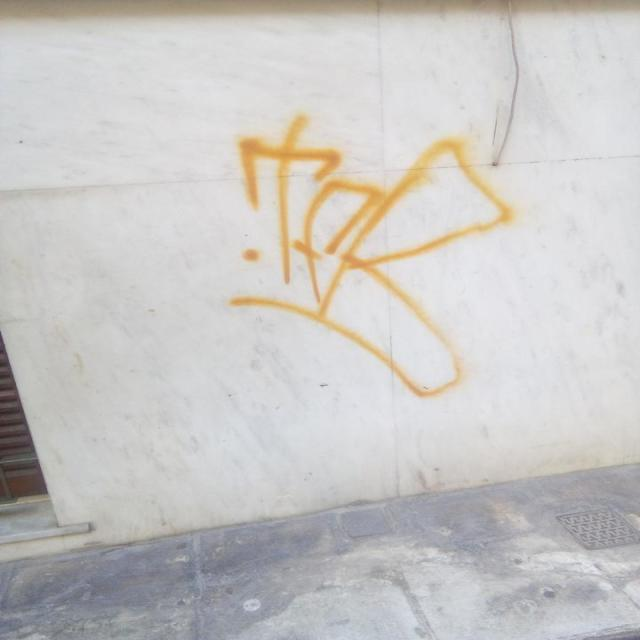nonspitting: (228, 114, 516, 398)
